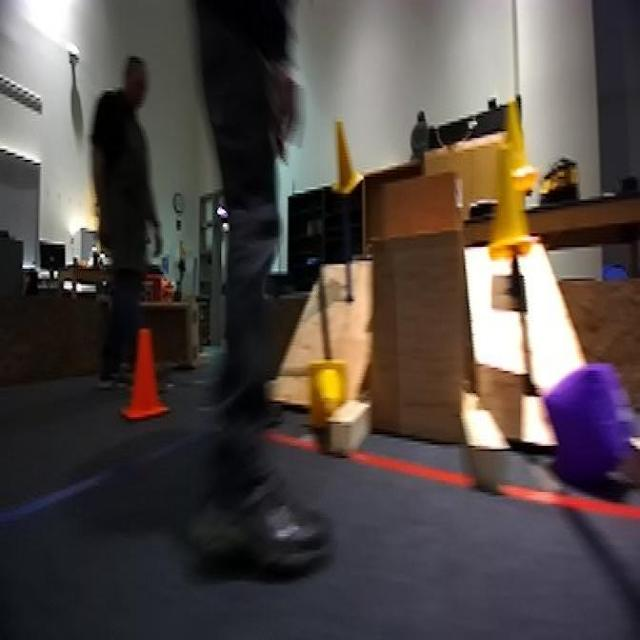frc_cone: (486, 138, 532, 265), (498, 99, 535, 189), (304, 364, 350, 426), (331, 119, 364, 191)
frc_cube: (550, 351, 640, 507)
